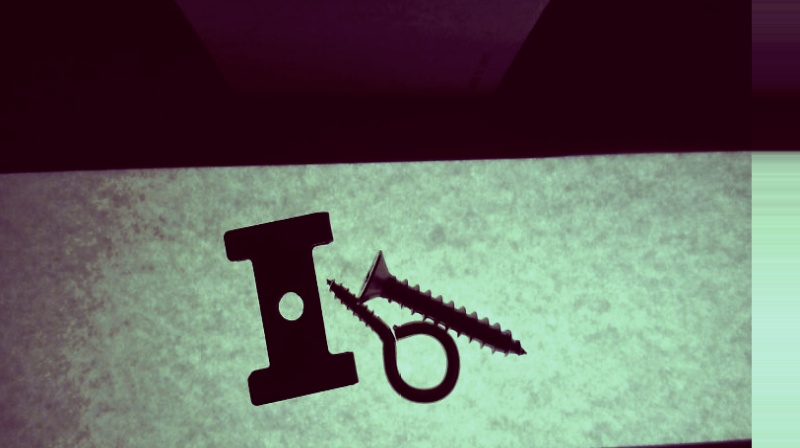O001: (323, 273, 463, 405)
O002: (221, 210, 357, 406)
S001: (352, 250, 530, 359)
